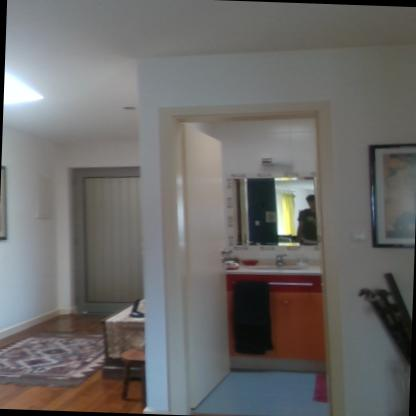open: (138, 83, 348, 416)
